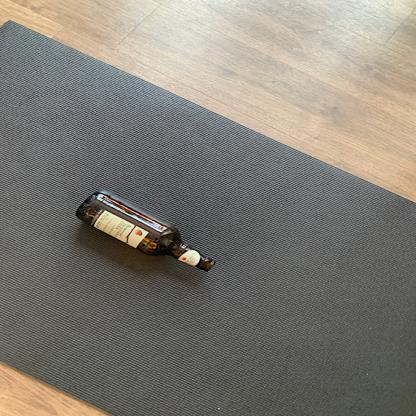trash: (75, 193, 218, 274)
